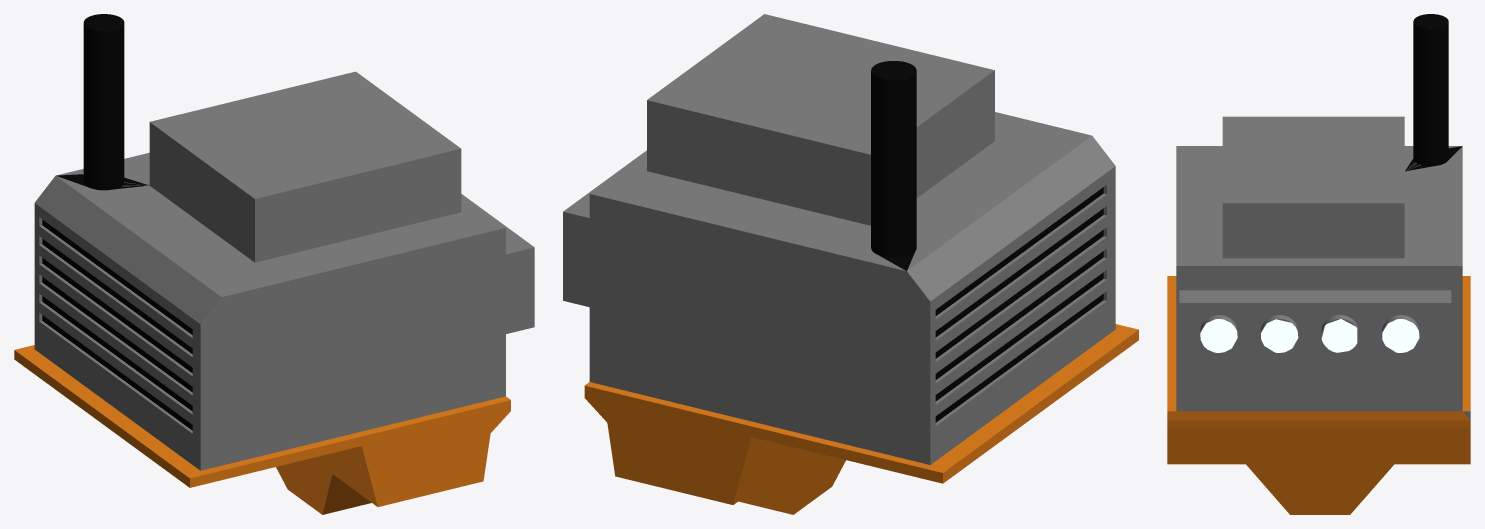
Rendered from swarmfarmv2_front_chassis_body.dae.
3 views of the same model, side by side, from view 1: azimuth 30°, elevation 25°; view 2: azimuth 150°, elevation 25°; view 3: azimuth 270°, elevation 25° (orthographic). The views are drawn at different scales.
Parts seen in each view (by area): view 1: node0; view 2: node0; view 3: node0.
Boxes of the visible parts, x1,y1,x2,y2 form: node0: (14,14,534,514); node0: (563,14,1138,514); node0: (1167,14,1470,514).
Size of the model in its own units: 1.19 by 1 by 1.46.
